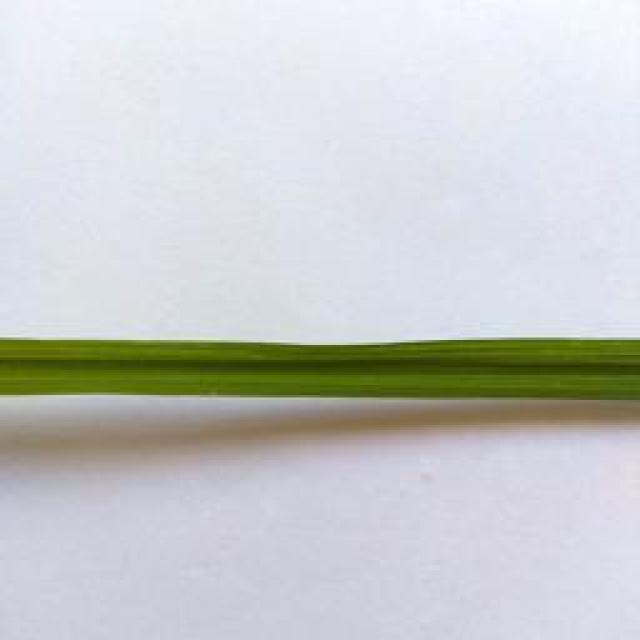Healthy-Plant: (0, 320, 640, 425)
